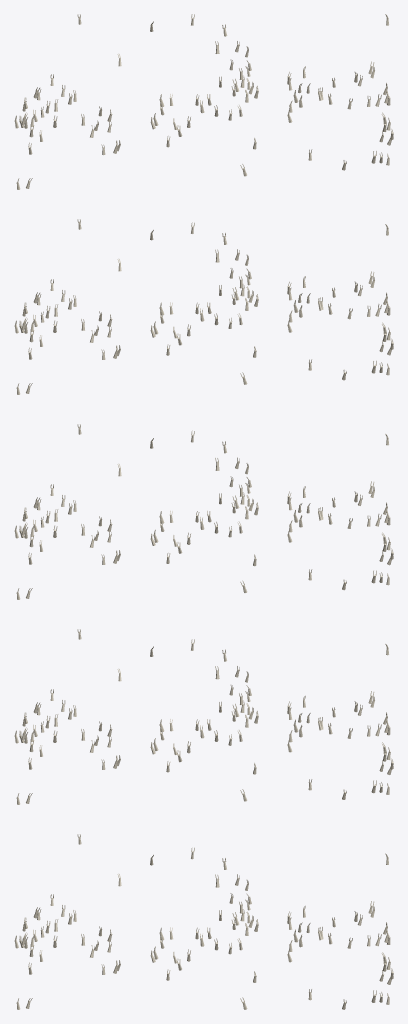
File: Circle2Crowd0.obj
3 views of the same model, side by side, from view 1: azimuth 30°, elevation 25°; view 2: azimuth 210°, elevation 25°; view 3: azimuth 330°, elevation 25° (orthographic). The views are drawn at different scales.
Parts seen in each view (by area): view 1: Circle2Crowd0; view 2: Circle2Crowd0; view 3: Circle2Crowd0.
Boxes of the visible parts, x1,y1,x2,y2 form: Circle2Crowd0: (14, 14, 121, 1009); Circle2Crowd0: (150, 14, 258, 1009); Circle2Crowd0: (287, 14, 393, 1009).
Bounding box in the file's own units: 30.69 × 313 × 25.46.
Materials: 1 (1 with a texture image).
